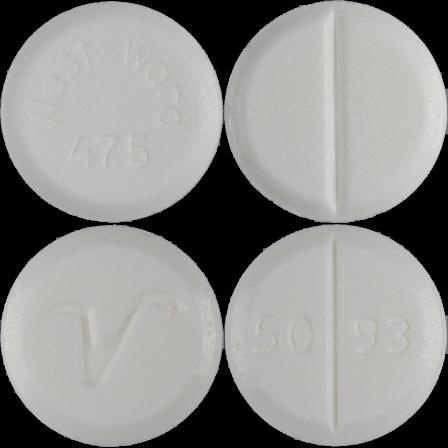53808-0540: (0, 0, 224, 224)
